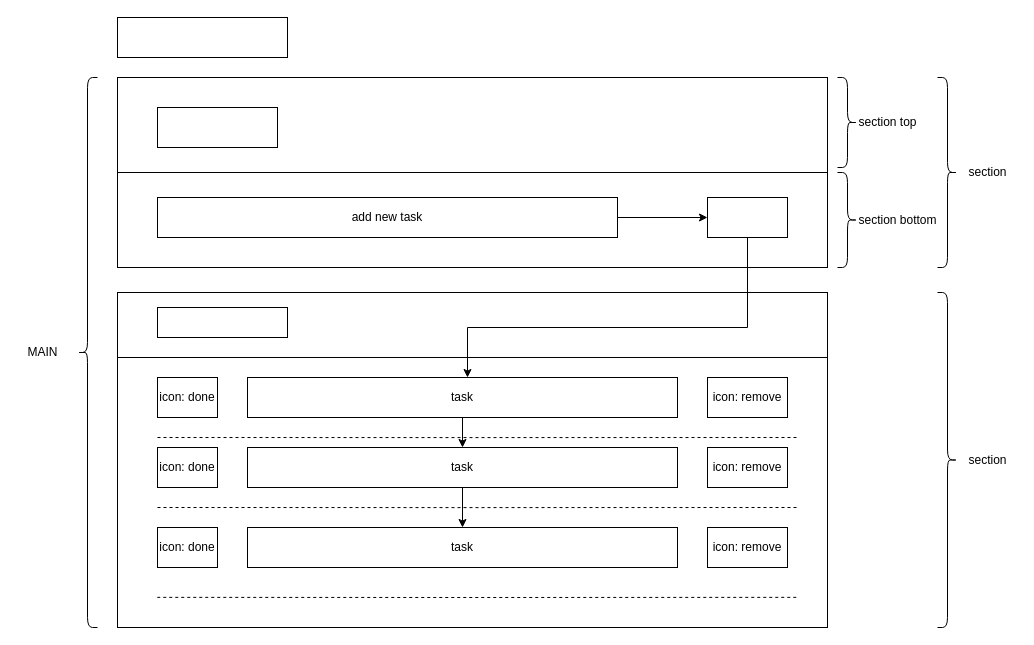
The diagram is 1034 pixels wide and 645 high, and some of its shapes have lost their labels. Each missing label, with the centre of its shape:
"button task" belongs at point 747,217.
"MAIN HEADER" belongs at point 202,37.
"TASK HEADER" belongs at point 217,127.
"task list" belongs at point 222,322.
